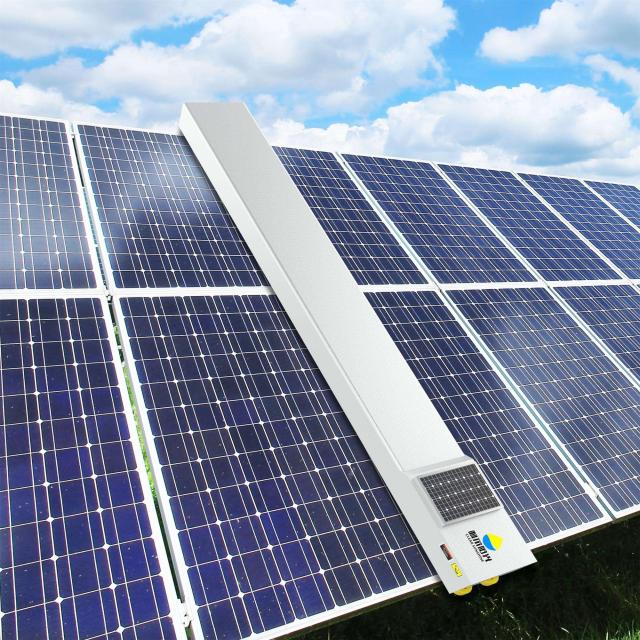clean-solar-panel: (0, 115, 436, 640), (280, 149, 640, 548)
